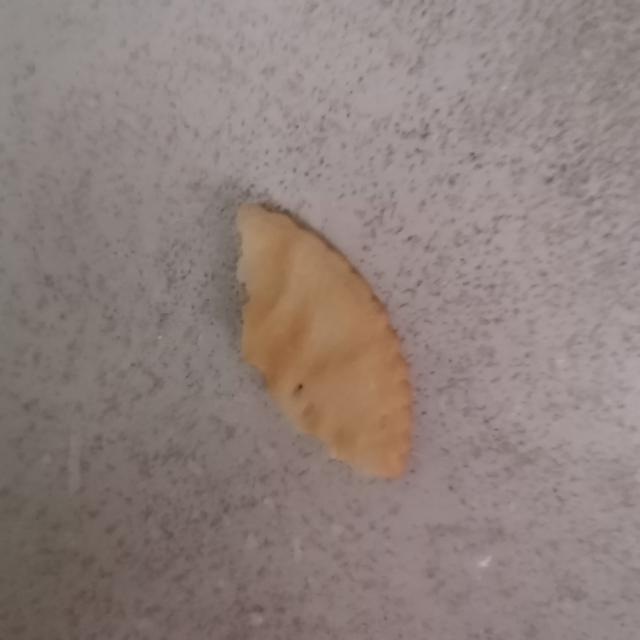Broken: (232, 200, 414, 480)
